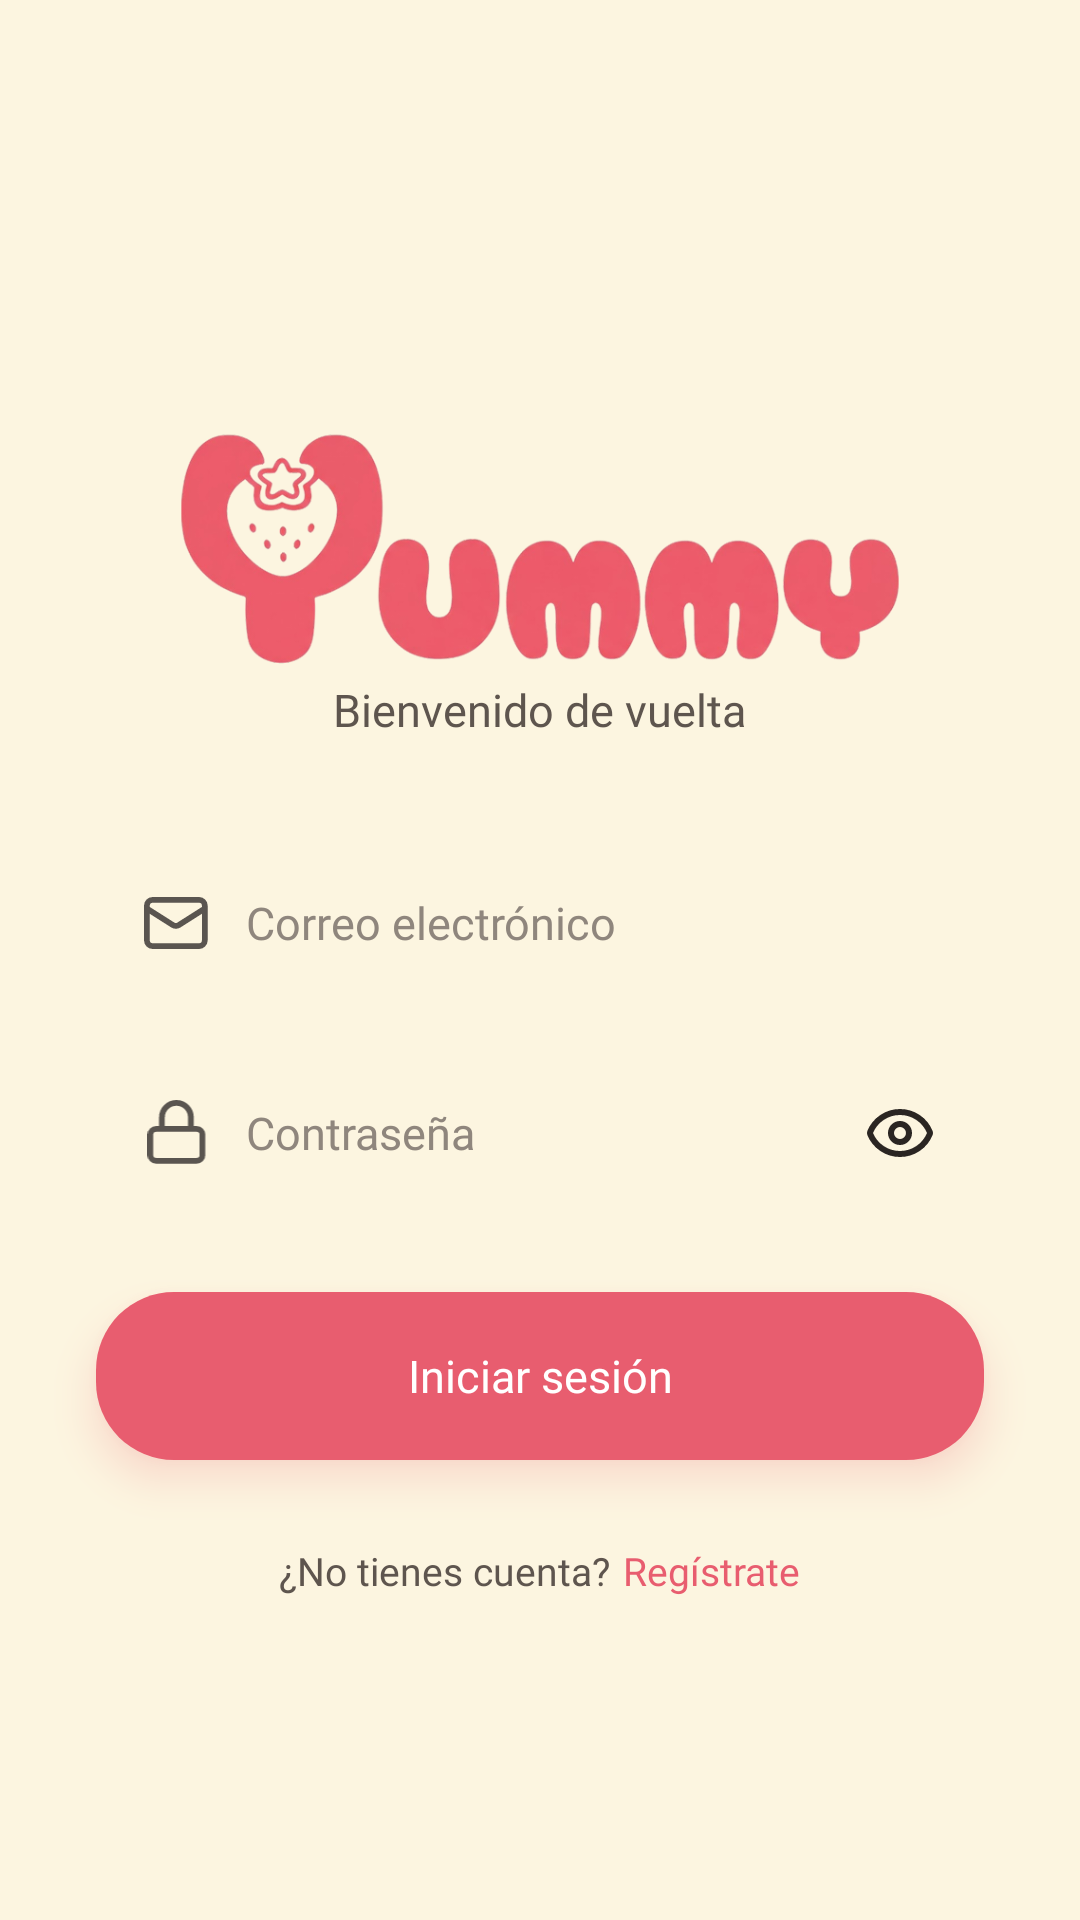

Icons on this 1080 x 1920 Android screen, each with the point to tap as (x=x, y=y):
lock: (x=176, y=1132)
mail: (x=176, y=923)
